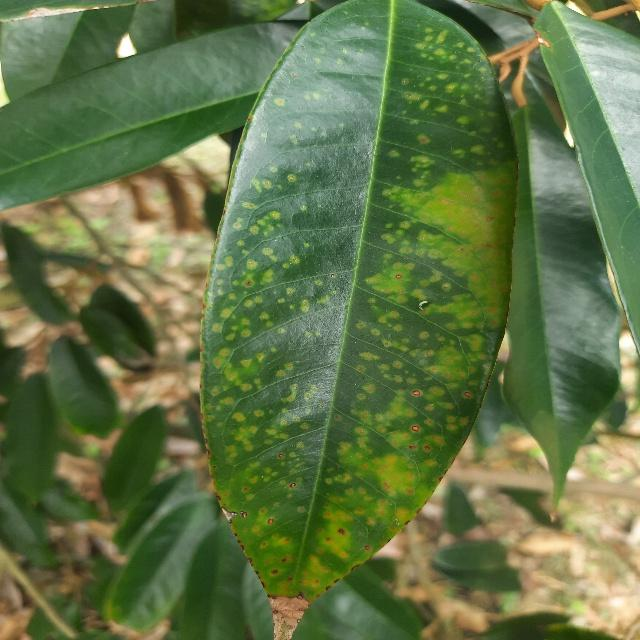Leaf Spot: (178, 0, 531, 640)
